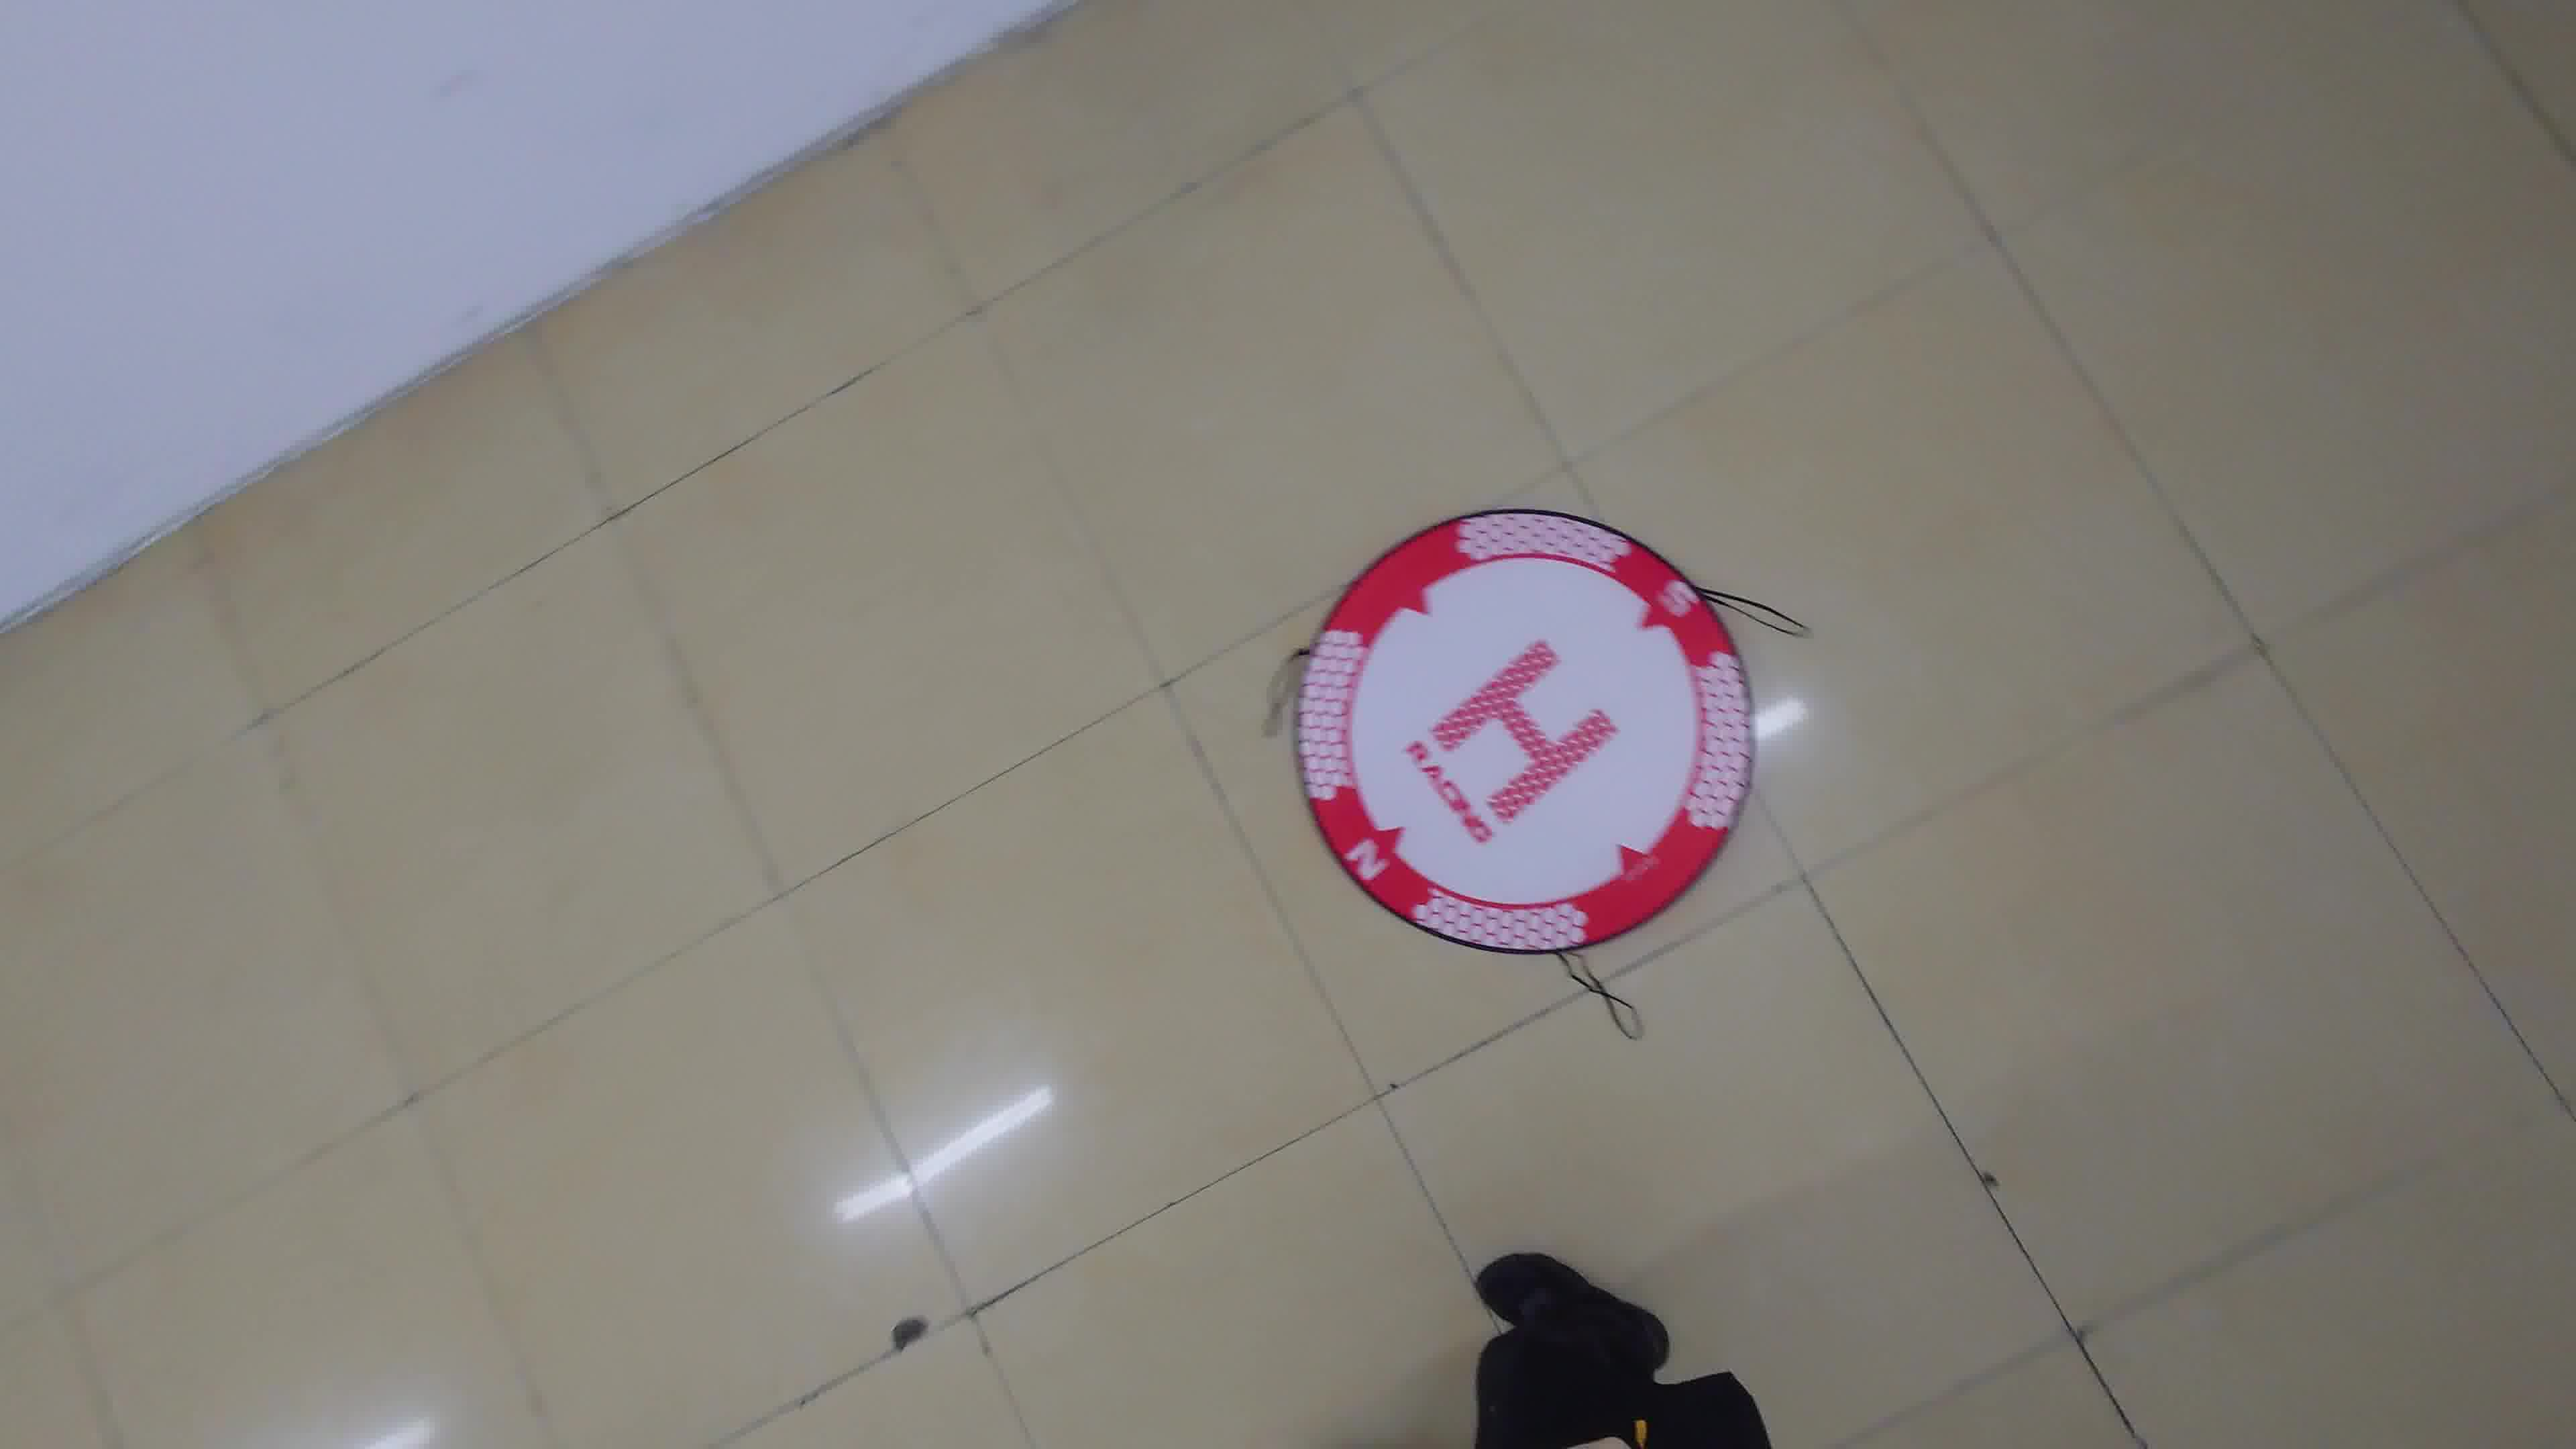H: (1430, 639, 1621, 828)
